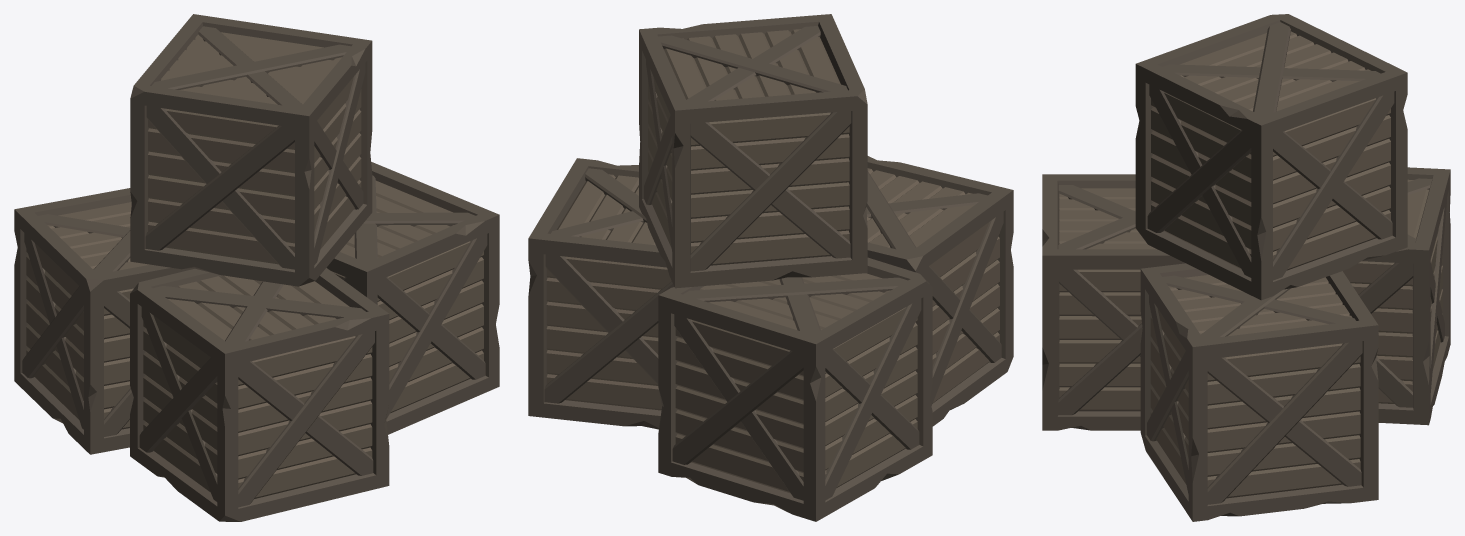
Rendered from Prop_Crate_Pile_03.fbx.
3 views of the same model, side by side, from view 1: azimuth 30°, elevation 25°; view 2: azimuth 150°, elevation 25°; view 3: azimuth 270°, elevation 25° (orthographic). The views are drawn at different scales.
Visible parts, largest first — view 1: Prop_Crate_Pile_03_LOD0; view 2: Prop_Crate_Pile_03_LOD0; view 3: Prop_Crate_Pile_03_LOD0.
Boxes of the visible parts, x1,y1,x2,y2 form: Prop_Crate_Pile_03_LOD0: (14,14,499,521); Prop_Crate_Pile_03_LOD0: (528,14,1013,521); Prop_Crate_Pile_03_LOD0: (1042,14,1450,521).
Size of what is drawn, in the model's own units: 154 by 135 by 142.
